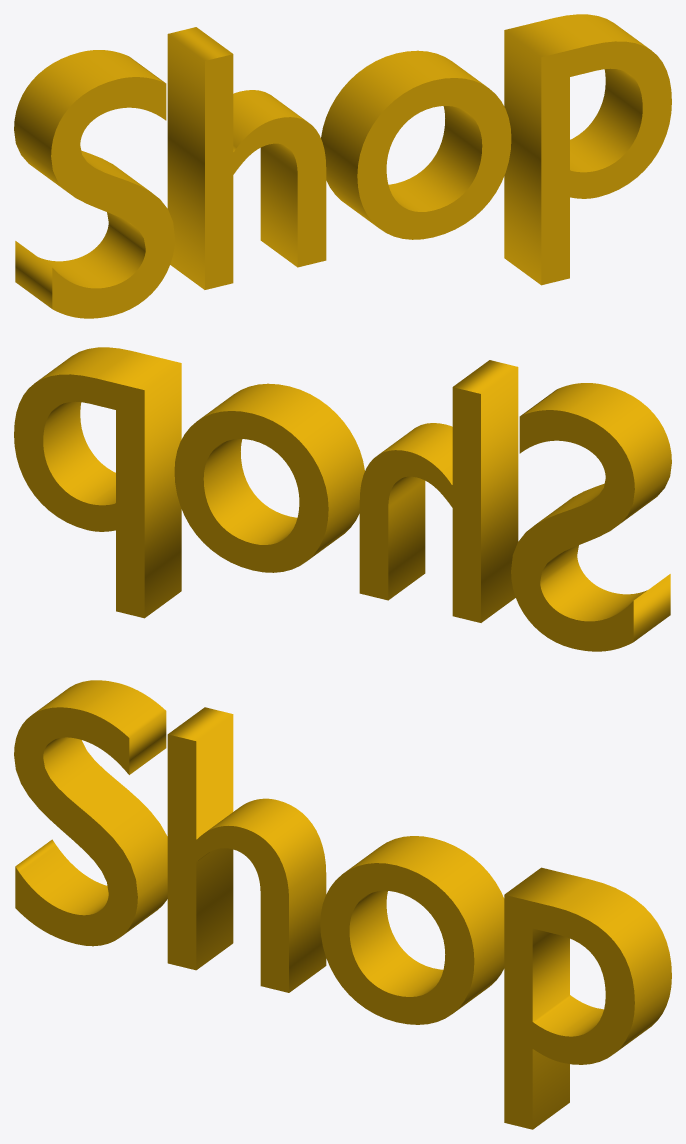
The model's file is shop.fbx.
The picture shows the model from 3 angles, top to bottom: view 1: azimuth 30°, elevation 25°; view 2: azimuth 150°, elevation 25°; view 3: azimuth 330°, elevation 25°; orthographic projection.
Visible parts, largest first — view 1: SHOP; view 2: SHOP; view 3: SHOP.
Part boxes in pixels (box(x1,y1,x2,y2)): SHOP: box(14, 14, 671, 318); SHOP: box(14, 347, 671, 651); SHOP: box(14, 680, 671, 1129).
Size of the model in its own units: 193 by 92.1 by 20.
